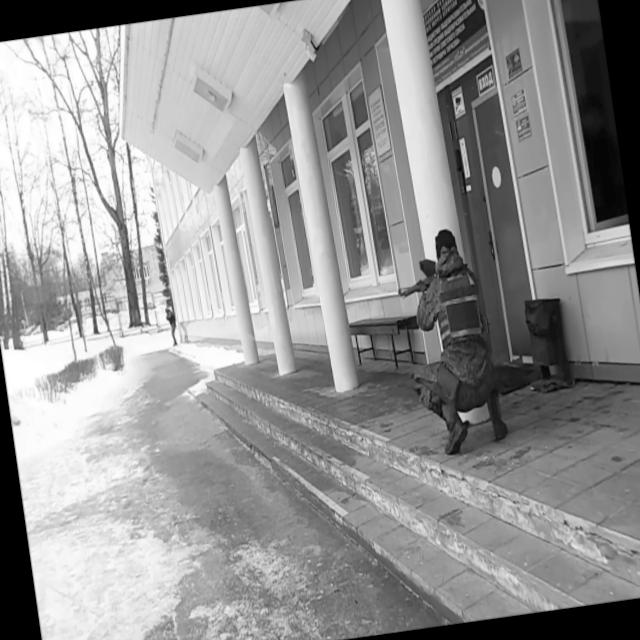gun: (397, 276, 438, 300)
person: (163, 305, 180, 348)
person with a gun: (391, 222, 512, 460)
